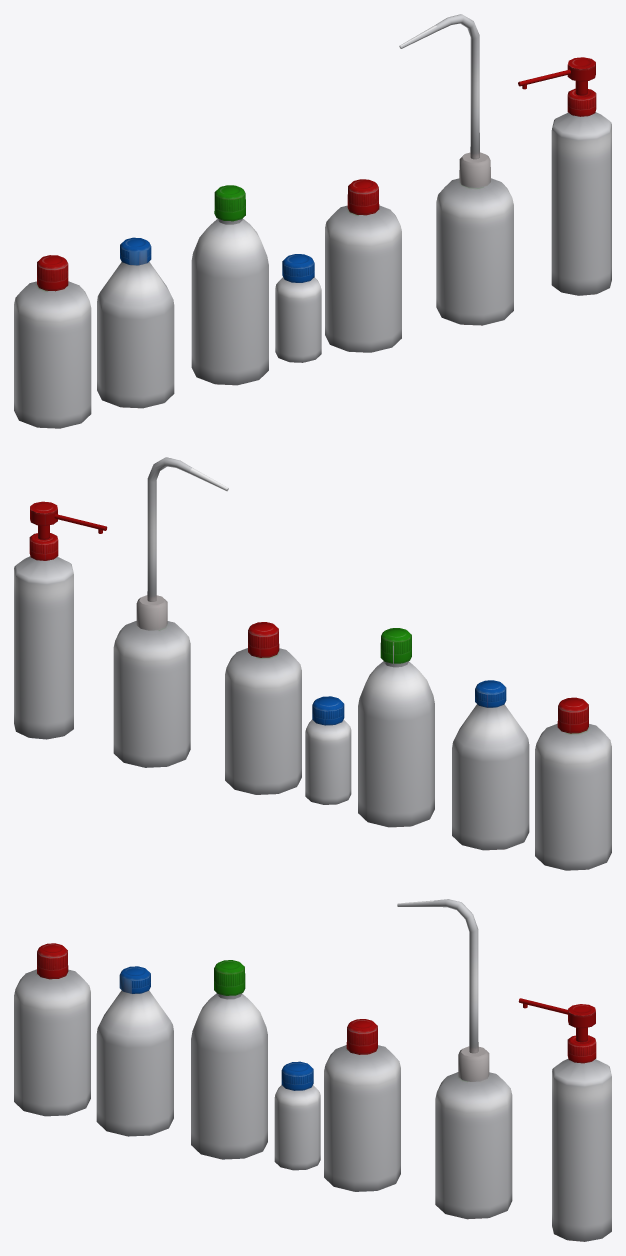
The model's file is Pro-flacons-01.FBX.
The picture shows the model from 3 angles, top to bottom: view 1: azimuth 30°, elevation 25°; view 2: azimuth 150°, elevation 25°; view 3: azimuth 330°, elevation 25°; orthographic projection.
Parts seen in each view (by area): view 1: Obj-bouteille-F-p_001, Obj-bouteille-B-p_001, Obj-bouteille-G-p_001, Obj-bouteille-E-p_002, Obj-bouteille-E-p_001, Obj-bouteille-A-p_001, Obj-bouteille-D-p_001; view 2: Obj-bouteille-F-p_001, Obj-bouteille-B-p_001, Obj-bouteille-G-p_001, Obj-bouteille-E-p_001, Obj-bouteille-E-p_002, Obj-bouteille-A-p_001, Obj-bouteille-D-p_001; view 3: Obj-bouteille-F-p_001, Obj-bouteille-B-p_001, Obj-bouteille-G-p_001, Obj-bouteille-E-p_001, Obj-bouteille-E-p_002, Obj-bouteille-A-p_001, Obj-bouteille-D-p_001.
Part boxes in pixels (x1,y1,x2,y2): Obj-bouteille-F-p_001: (399, 14, 513, 325); Obj-bouteille-B-p_001: (191, 185, 268, 385); Obj-bouteille-G-p_001: (518, 57, 611, 295); Obj-bouteille-E-p_002: (14, 255, 91, 428); Obj-bouteille-E-p_001: (325, 179, 401, 352); Obj-bouteille-A-p_001: (97, 237, 174, 408); Obj-bouteille-D-p_001: (275, 254, 321, 362); Obj-bouteille-F-p_001: (113, 457, 228, 767); Obj-bouteille-B-p_001: (358, 628, 434, 827); Obj-bouteille-G-p_001: (14, 501, 107, 739); Obj-bouteille-E-p_001: (225, 622, 301, 794); Obj-bouteille-E-p_002: (535, 697, 611, 870); Obj-bouteille-A-p_001: (452, 680, 529, 850); Obj-bouteille-D-p_001: (305, 696, 351, 804); Obj-bouteille-F-p_001: (397, 899, 512, 1219); Obj-bouteille-B-p_001: (191, 960, 267, 1159); Obj-bouteille-G-p_001: (518, 998, 611, 1241); Obj-bouteille-E-p_001: (324, 1019, 400, 1191); Obj-bouteille-E-p_002: (14, 943, 90, 1116); Obj-bouteille-A-p_001: (96, 966, 173, 1136); Obj-bouteille-D-p_001: (274, 1061, 320, 1170).
Bounding box in the file's own units: 69.53 × 7.58 × 33.83.
1 material, 1 textured.
